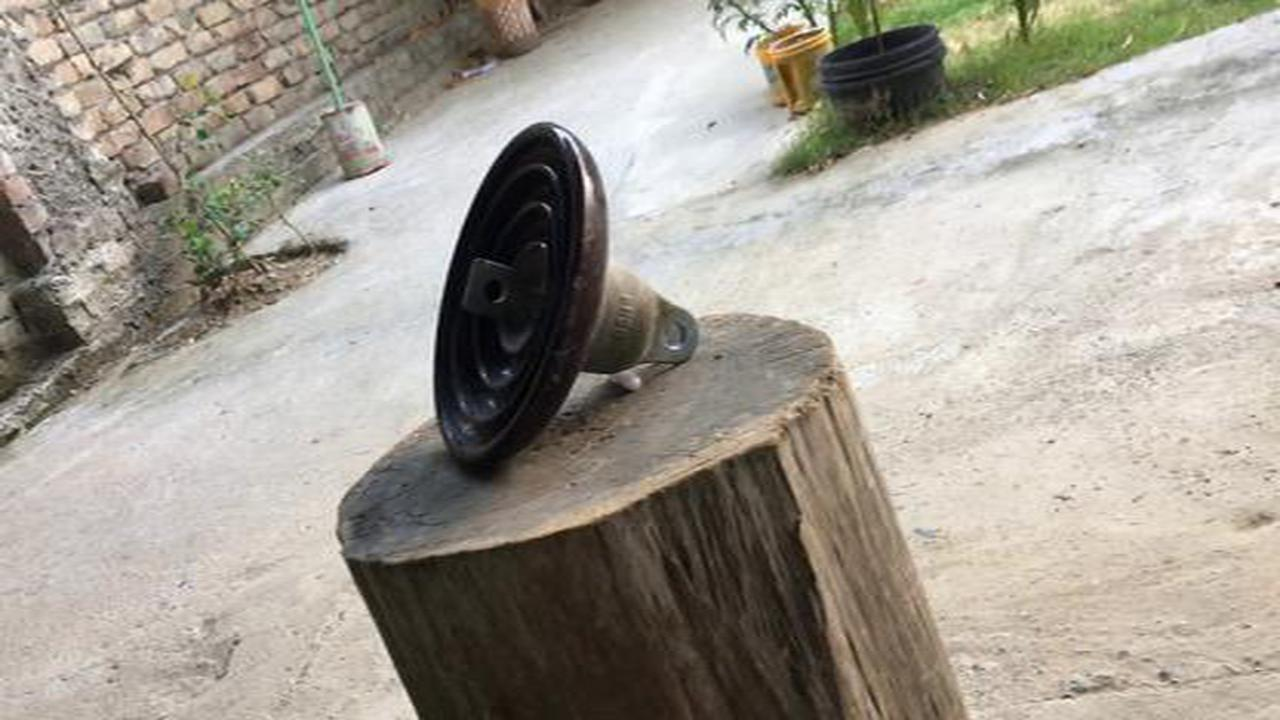insulator_disc: (426, 118, 700, 470)
